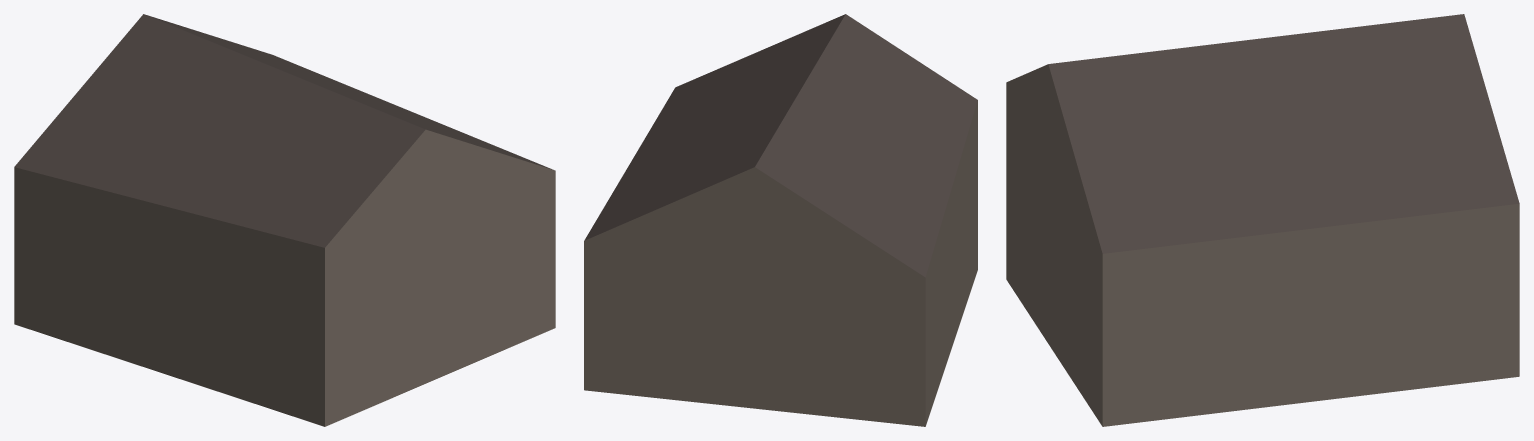
3 renders of one model, left to right at view 1: azimuth 30°, elevation 25°; view 2: azimuth 150°, elevation 25°; view 3: azimuth 270°, elevation 25°, orthographic. The views are drawn at different scales.
Parts seen in each view (by area): view 1: HP-w1197008308; view 2: HP-w1197008308; view 3: HP-w1197008308.
Part boxes in pixels (left/top/right/bottom): HP-w1197008308: left=14, top=14, right=555, bottom=426; HP-w1197008308: left=584, top=14, right=977, bottom=426; HP-w1197008308: left=1006, top=14, right=1519, bottom=426.
Size of the model in its own units: 16.07 by 9.7 by 16.13.
